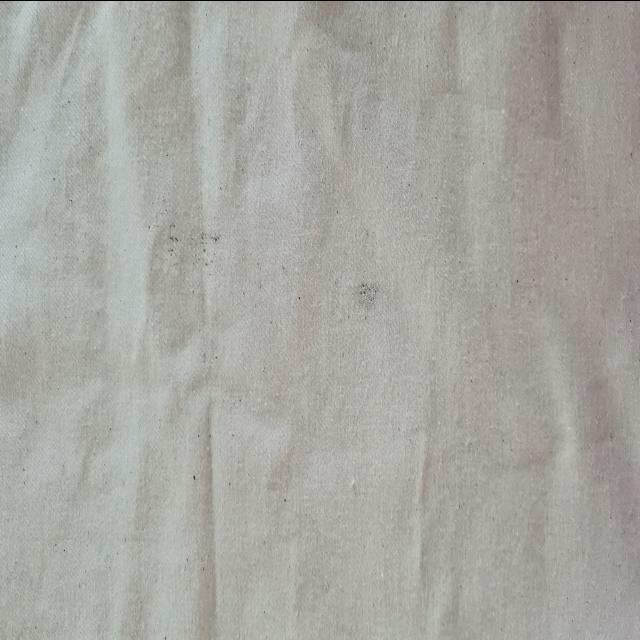taaaches: (339, 245, 388, 342)
